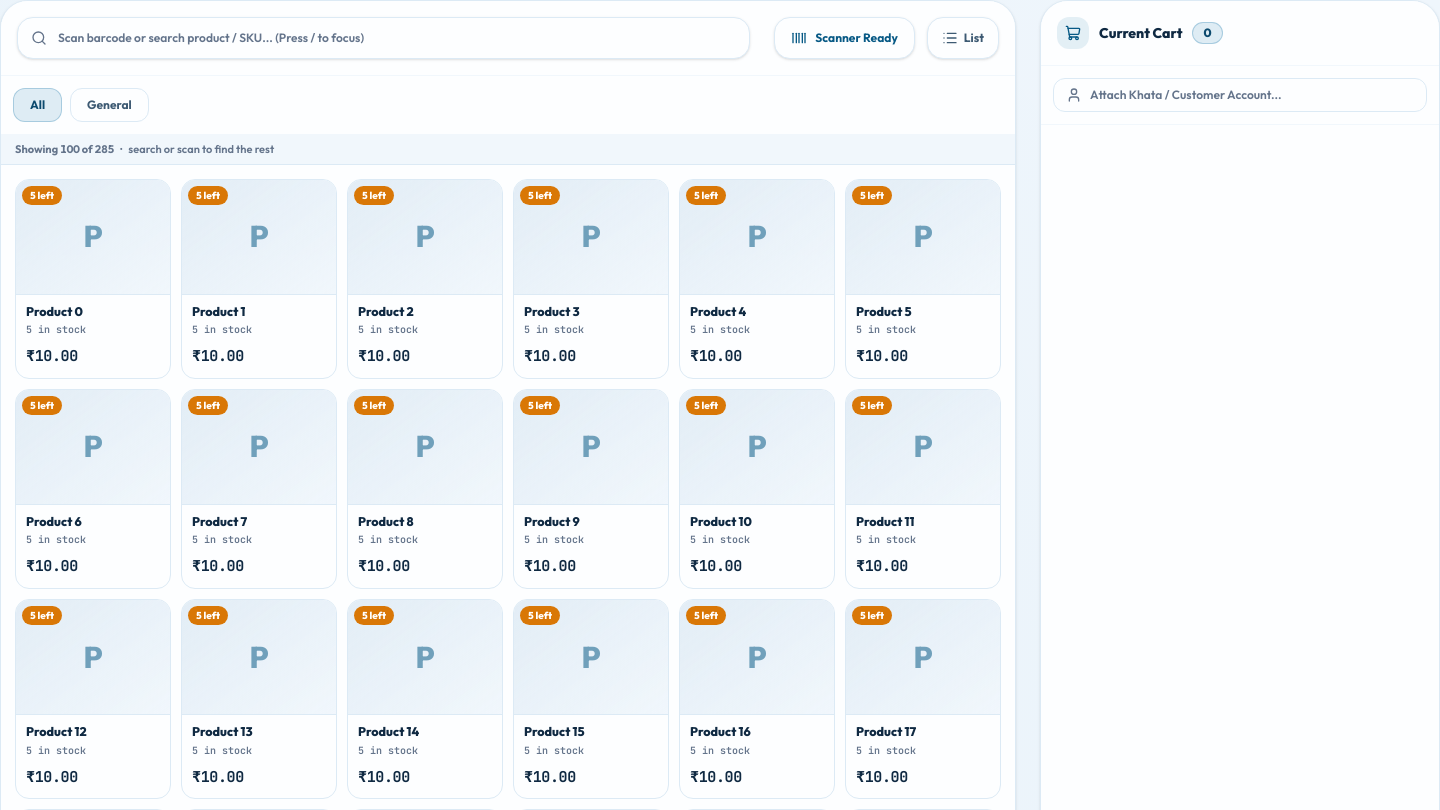
Scenario: the till loading the catalogue › still finds a capped-out product when it is searched for
Type "Product 150" into the field with placeholder "Scan barcode or search product / SKU... (Press / to focus)" at (384, 38), box [17,17,750,59]
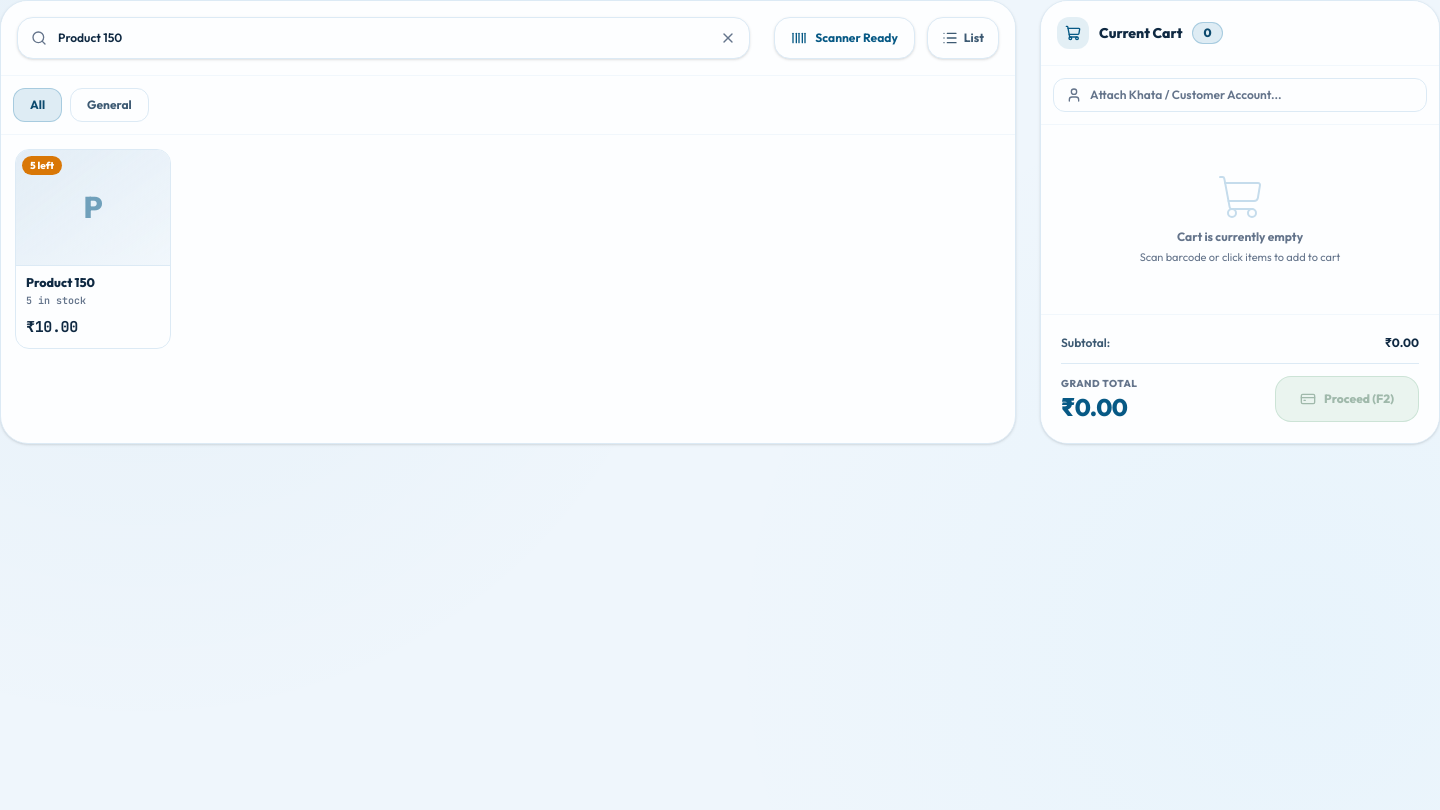
Result: the text "Product 150" is shown at [26,274,95,291]
